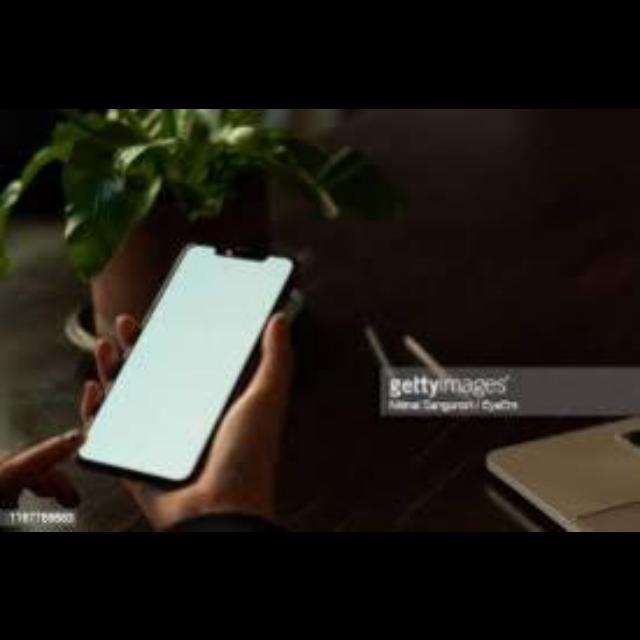phone: (69, 231, 291, 501)
